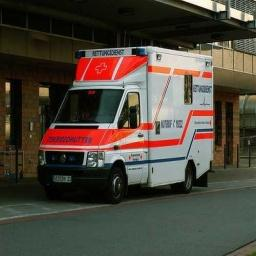Ambulance: (38, 46, 213, 202)
